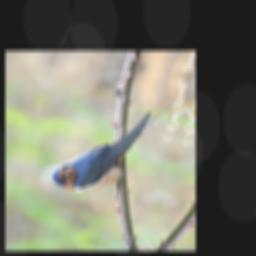Swallow: (47, 80, 182, 207)
